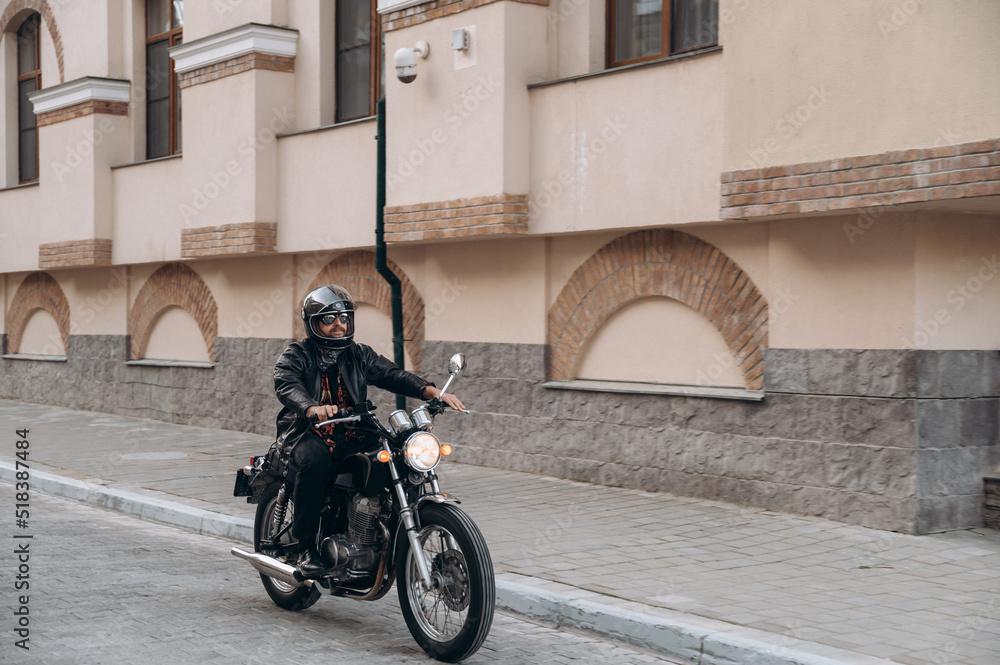helmet: (300, 283, 359, 350)
